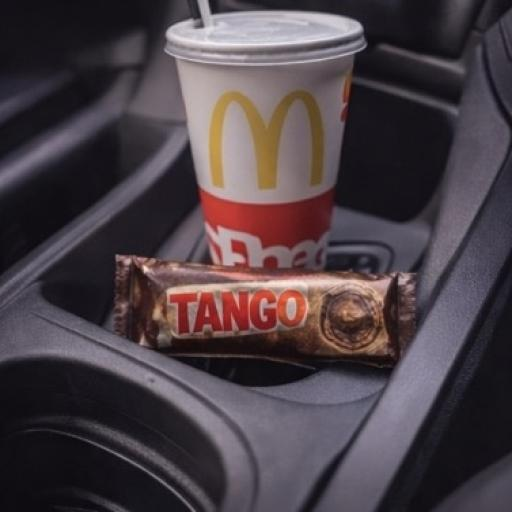tango: (92, 209, 463, 417)
